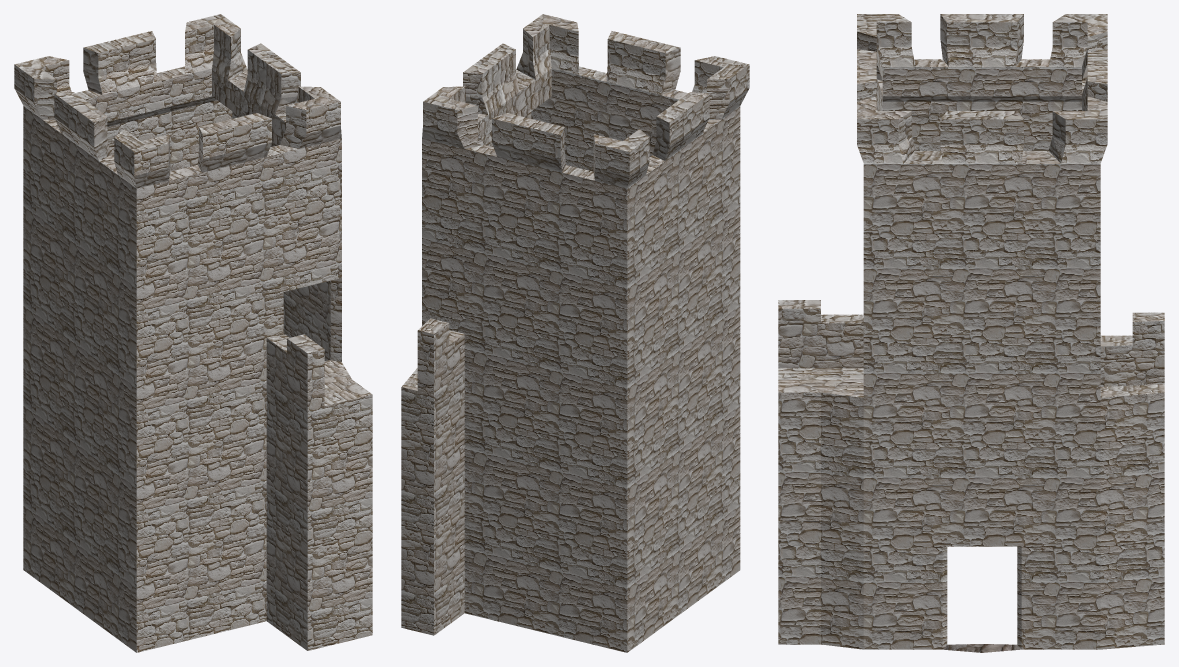
File: tower_4.fbx
3 views of the same model, side by side, from view 1: azimuth 30°, elevation 25°; view 2: azimuth 150°, elevation 25°; view 3: azimuth 270°, elevation 25° (orthographic). The views are drawn at different scales.
Parts seen in each view (by area): view 1: Cube.012; view 2: Cube.012; view 3: Cube.012.
Boxes of the visible parts, box(x1,y1,x2,y2) form: Cube.012: box(14, 14, 372, 652); Cube.012: box(401, 14, 749, 652); Cube.012: box(778, 14, 1164, 652).
Bounding box in the file's own units: 754 × 1672 × 1109.
2 materials, 2 textured.
